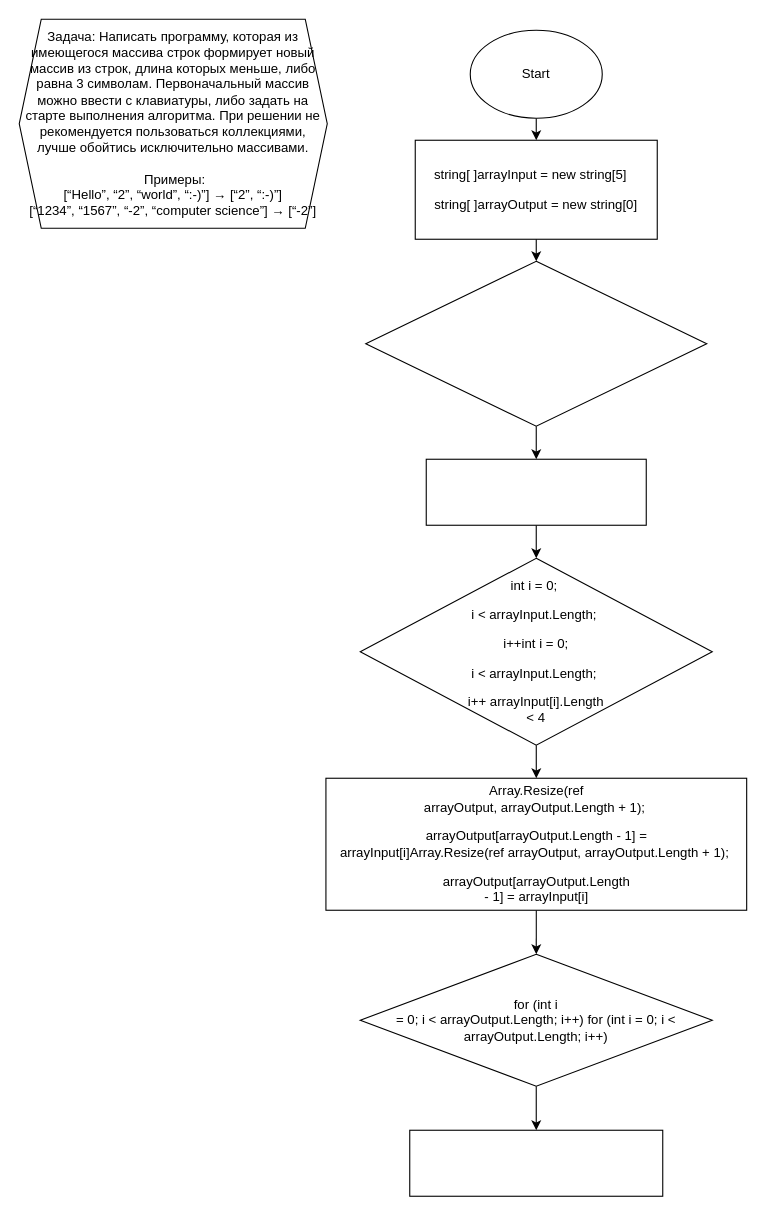
The diagram is 767 pixels wide and 1216 high, and some of its shapes have lost their labels. The centre of each missing label's shape, as x and y in pixels:
Console.Write($"'{arrayOutput[i]}': [536,1162]
int i = 0; i < arrayInput.Length; i++int i = 0; i < arrayInput.Length; i++: [536,343]
выводим массив 1-й, который дан: [535,491]
